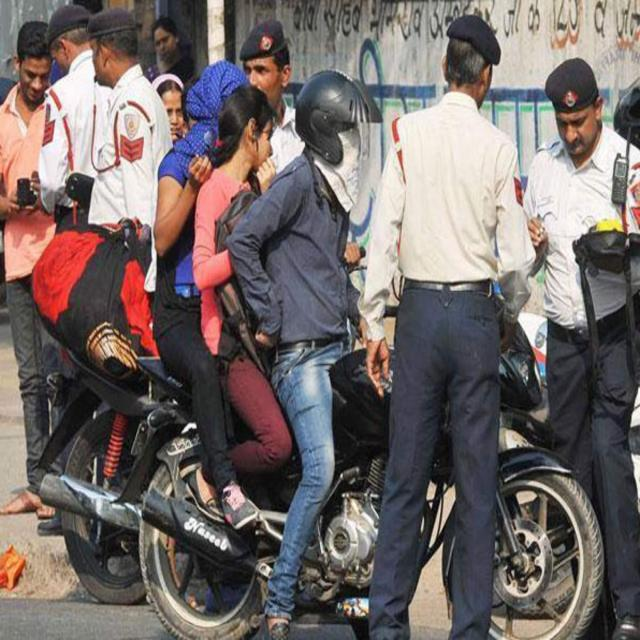Triple Riding: (131, 79, 558, 556)
